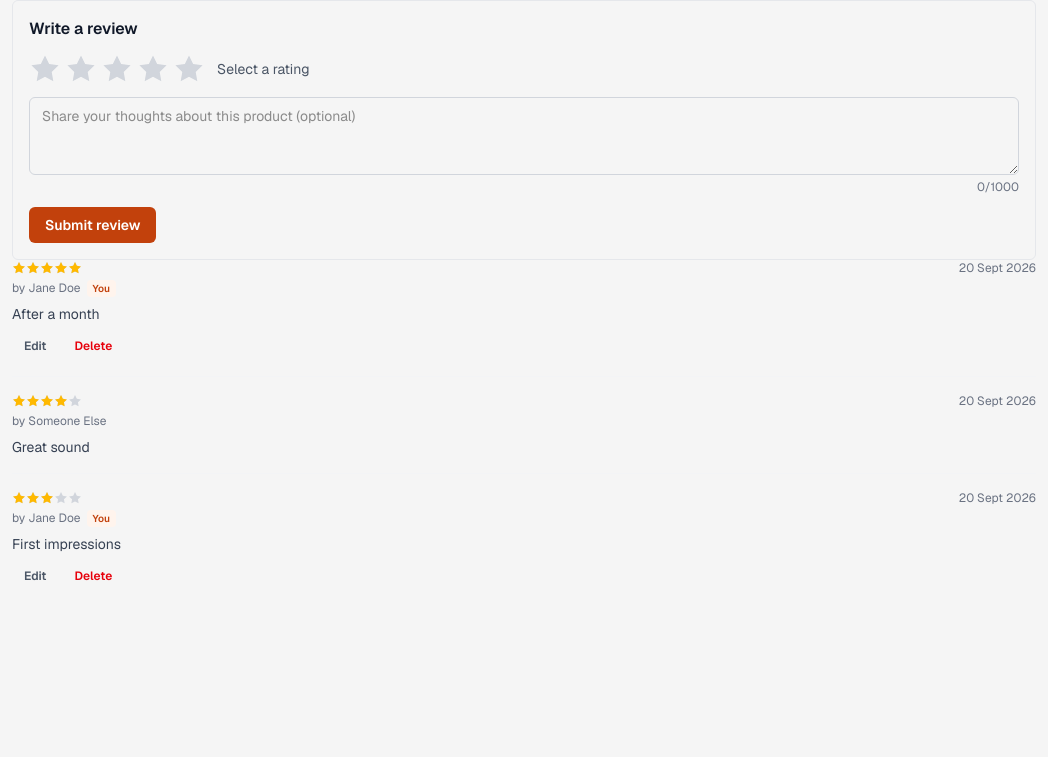
Test: reviews › WriteReview › can add several reviews for the same product
The width and height of the screenshot is (1048, 757).
Click the radio button named "4 star" at (153, 69), box x1=137 y1=53 x2=169 y2=85
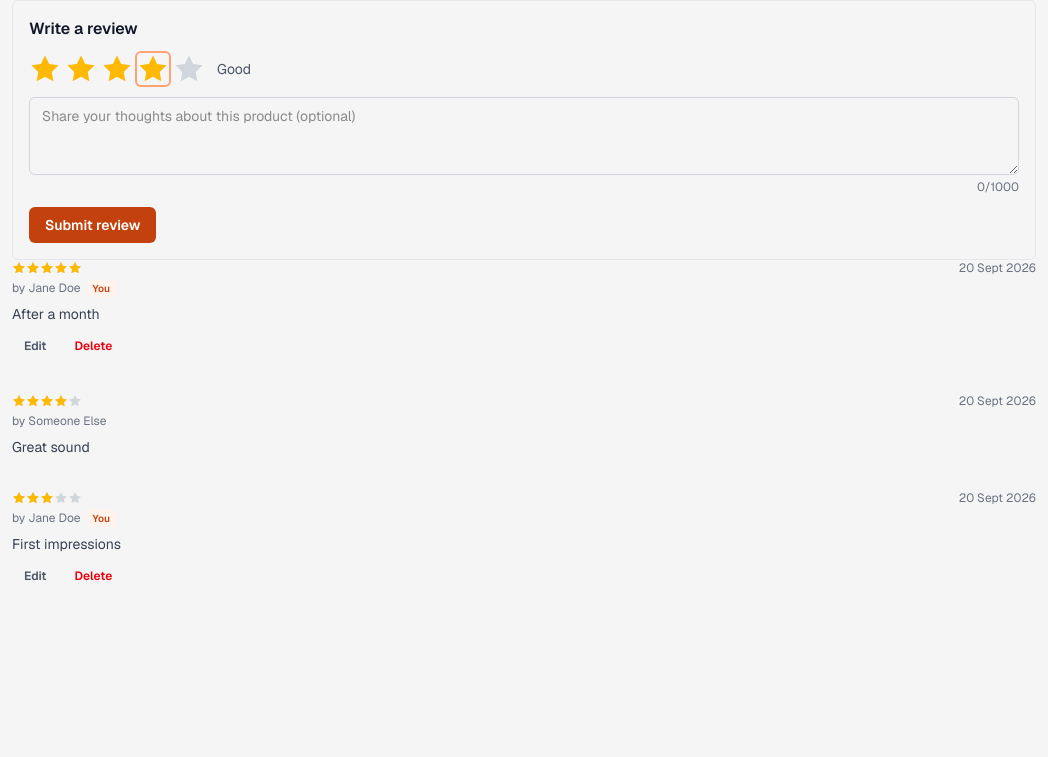
Type "Loved it" into the text box named "Comment" at (524, 136), box x1=29 y1=97 x2=1019 y2=175
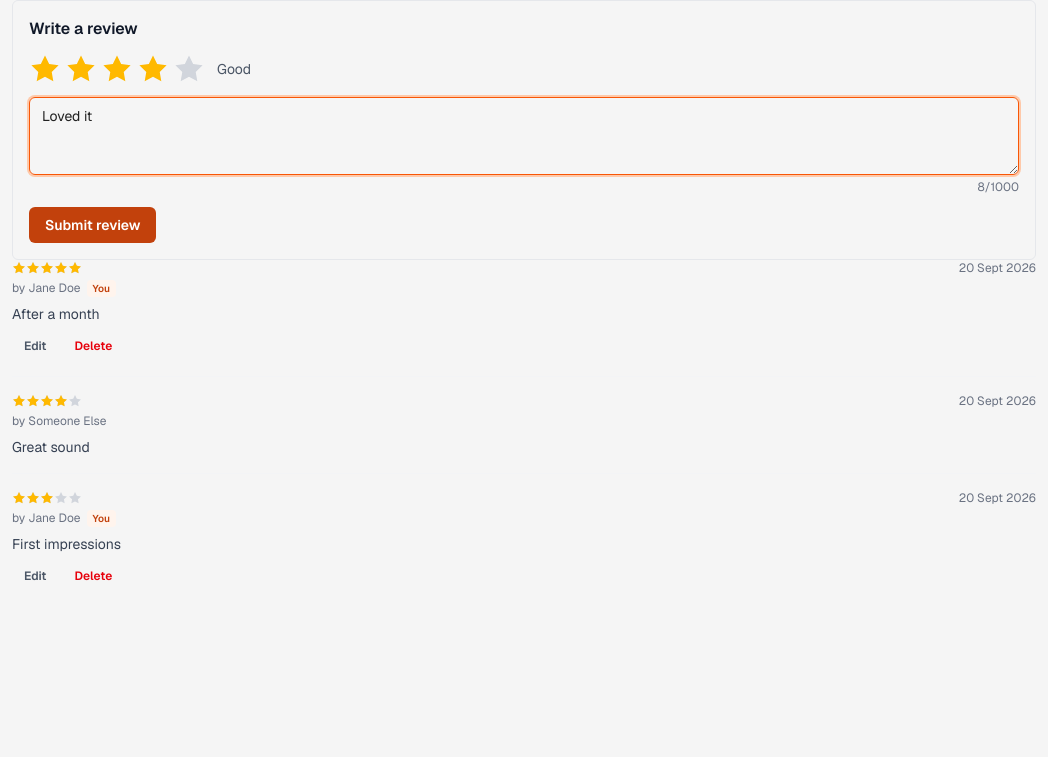
Click the button "Submit review" at (93, 225), box x1=29 y1=207 x2=156 y2=243
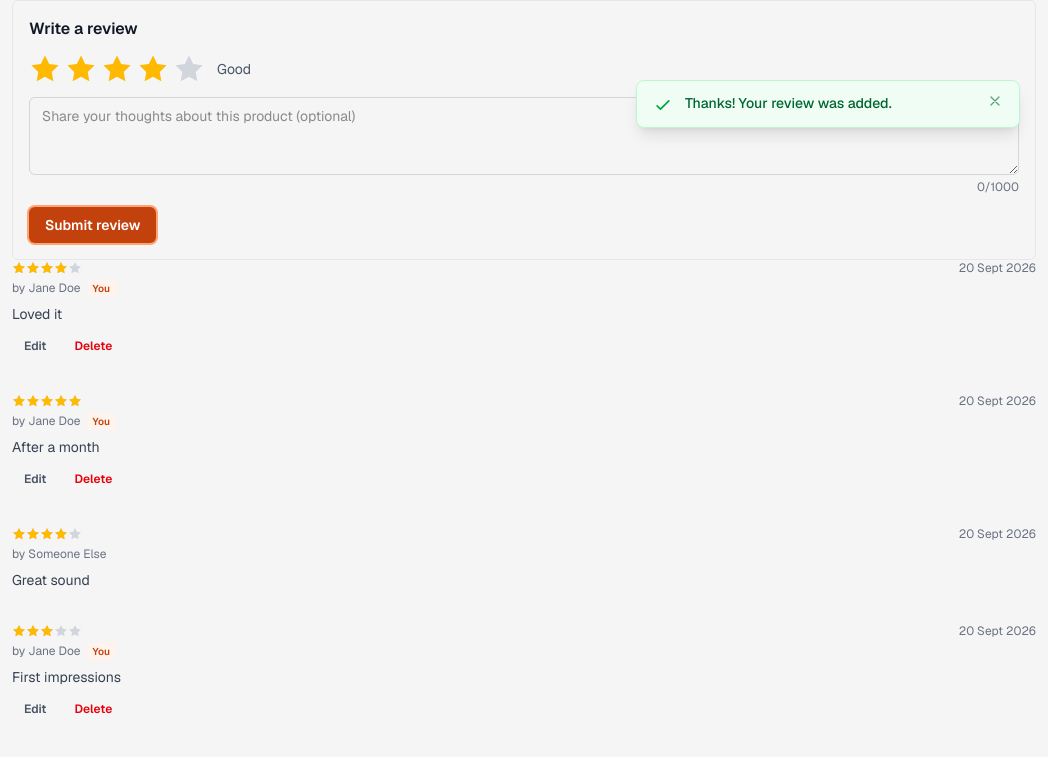
Check: the message shows "Your review was added.", box x1=685 y1=94 x2=892 y2=112
Check: the text box named "Comment" is empty, box x1=29 y1=97 x2=1019 y2=175
Click the radio button named "2 stars – Poor" at (81, 69), box x1=65 y1=53 x2=97 y2=85
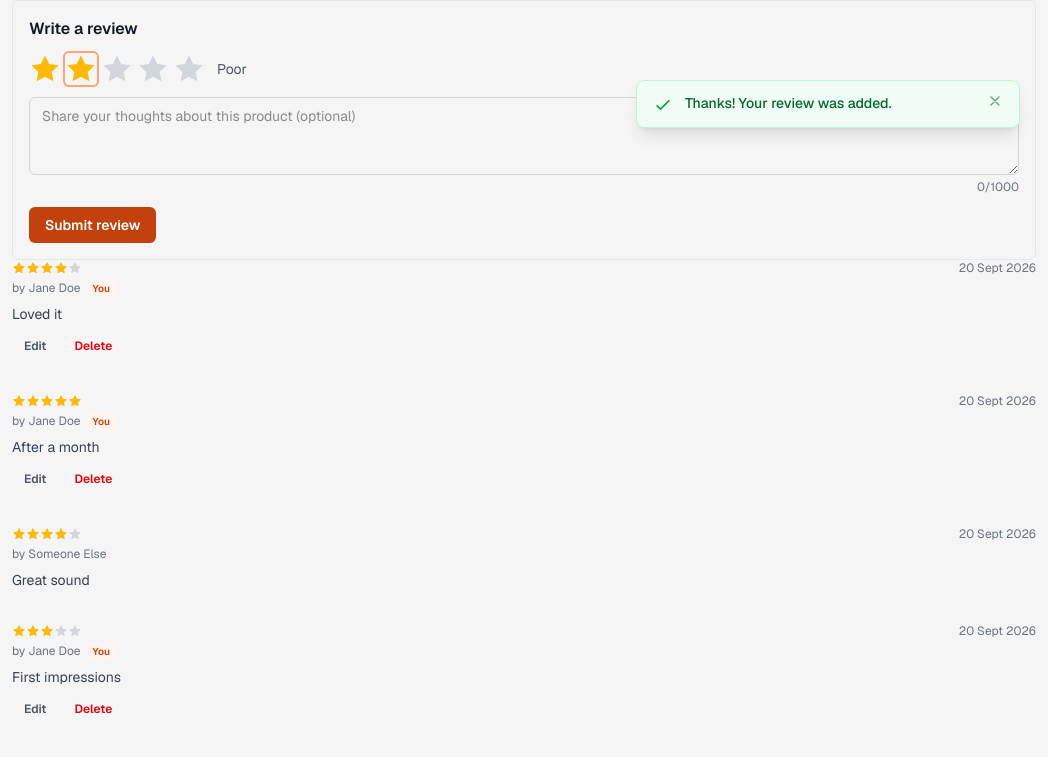
Type "Broke after a week" into the text box named "Comment" at (524, 136), box x1=29 y1=97 x2=1019 y2=175
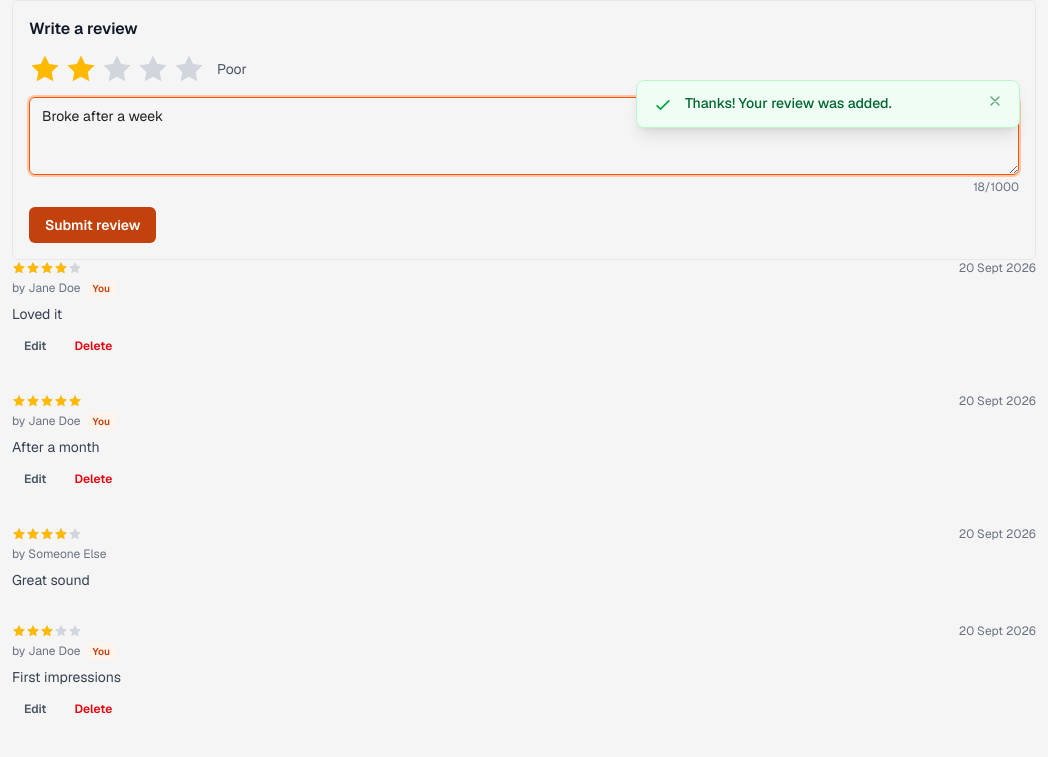
Click the button "Submit review" at (93, 225), box x1=29 y1=207 x2=156 y2=243
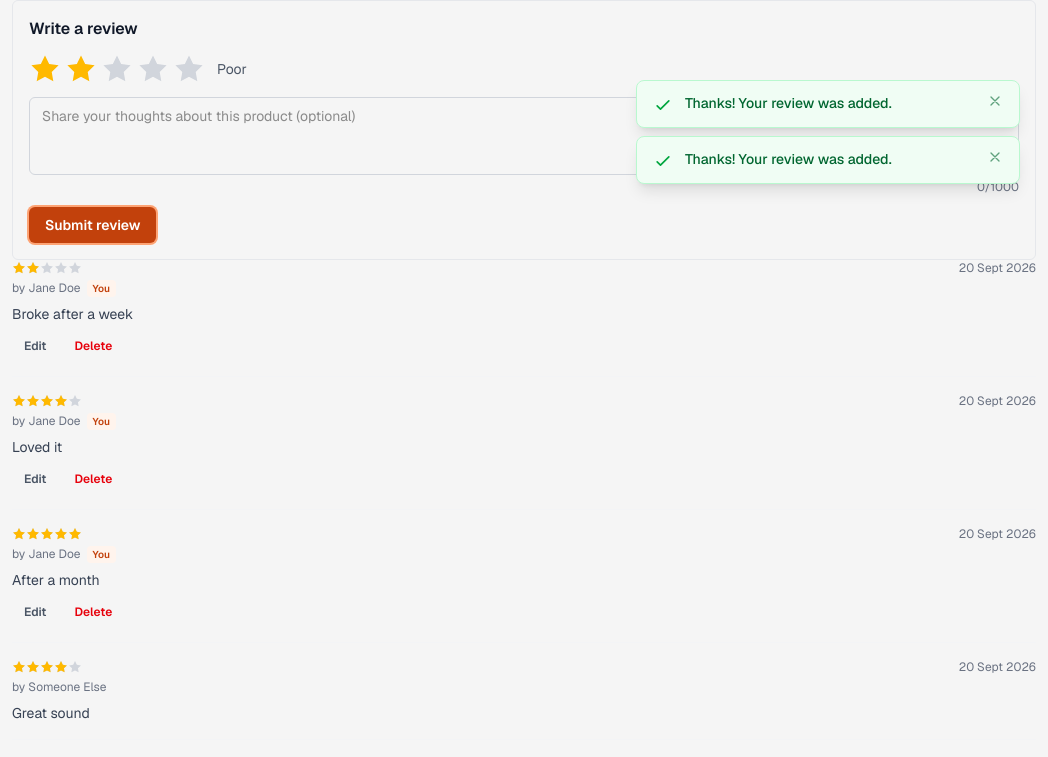
Check: the 1st message "Thanks! Your review was added." is shown, box x1=636 y1=80 x2=1020 y2=128
Check: the text box named "Comment" is empty, box x1=29 y1=97 x2=1019 y2=175
Check: the text "Broke after a week" is shown, box x1=12 y1=305 x2=133 y2=323
